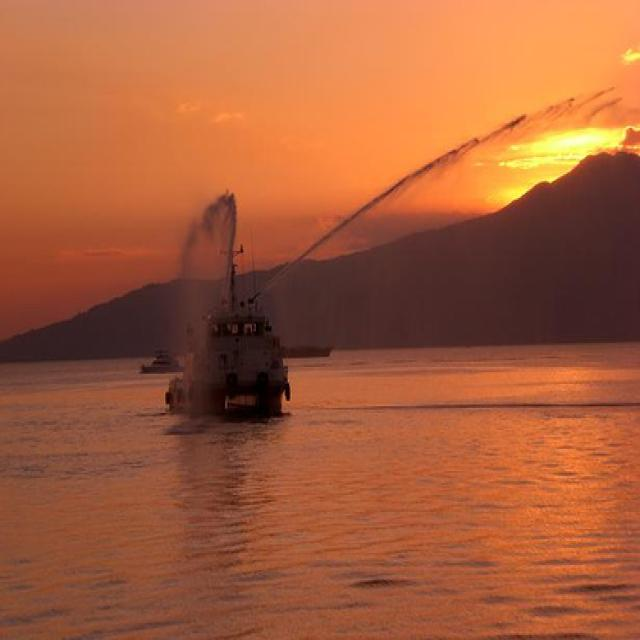Boat: (177, 267, 317, 430), (152, 326, 183, 390)
